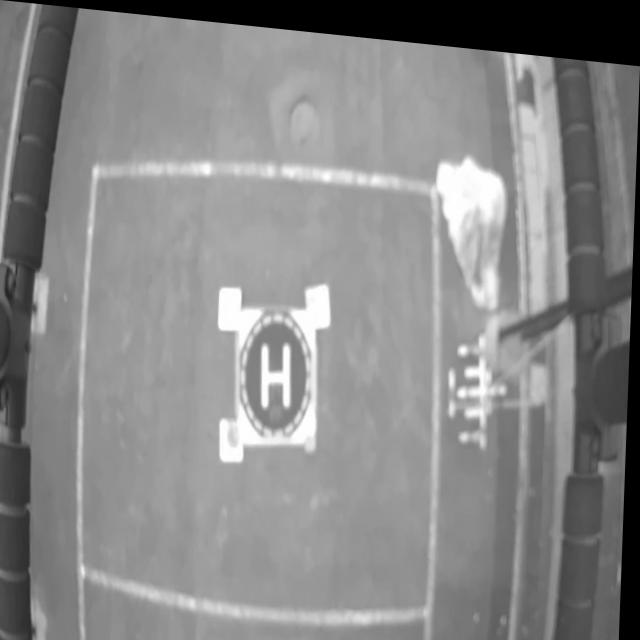Helipad: (263, 336, 294, 403)
